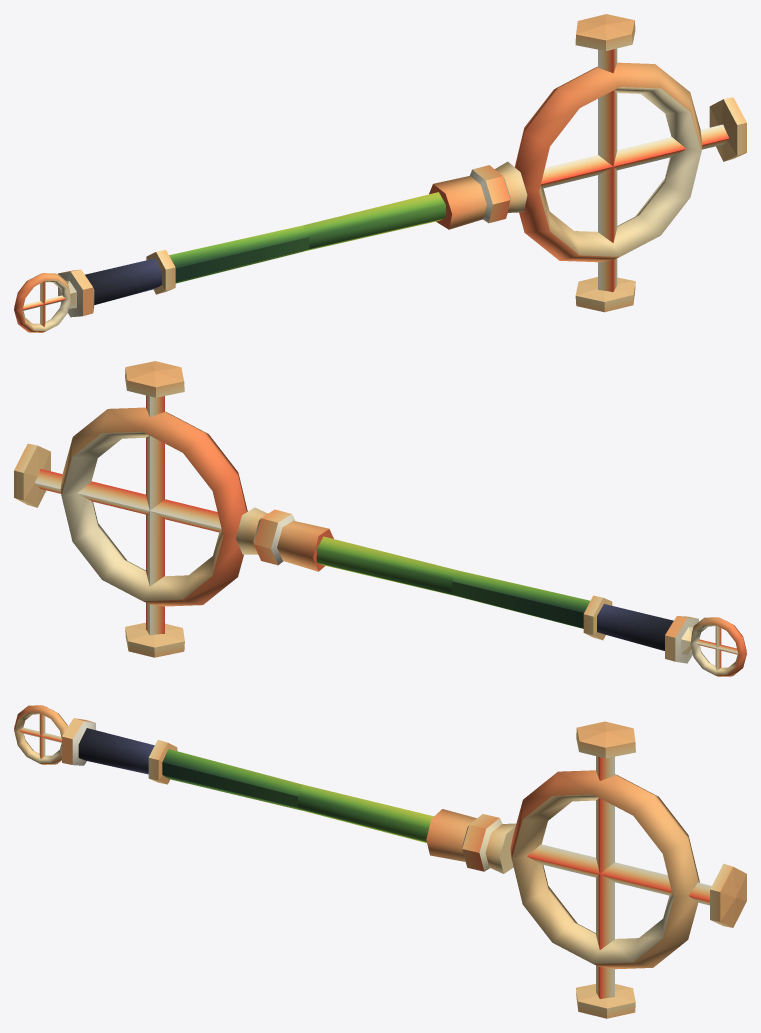
File: weapon_29.FBX
The picture shows the model from 3 angles, top to bottom: view 1: azimuth 30°, elevation 25°; view 2: azimuth 150°, elevation 25°; view 3: azimuth 330°, elevation 25°; orthographic projection.
Parts seen in each view (by area): view 1: weapon_29; view 2: weapon_29; view 3: weapon_29.
Boxes of the visible parts, x1,y1,x2,y2 form: weapon_29: (14, 14, 746, 332); weapon_29: (14, 361, 746, 676); weapon_29: (14, 705, 746, 1018).
Bounding box in the file's own units: 92.46 × 33.87 × 6.56.
1 material, 1 textured.
